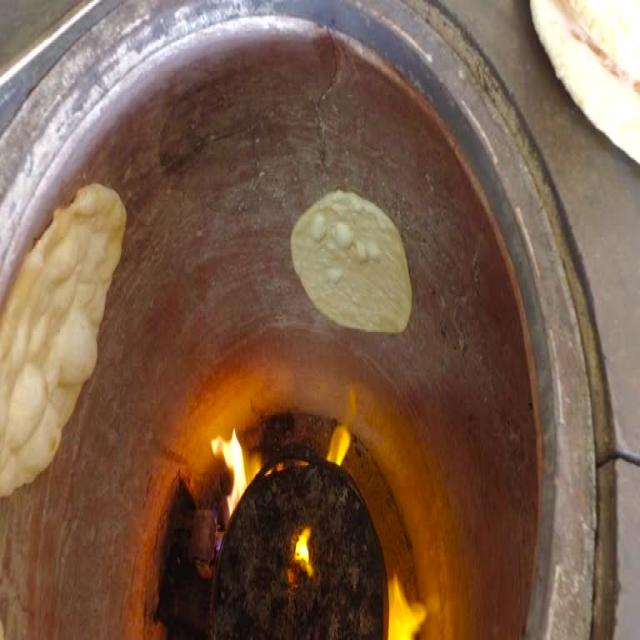fire: (211, 428, 246, 513), (389, 574, 427, 640)
